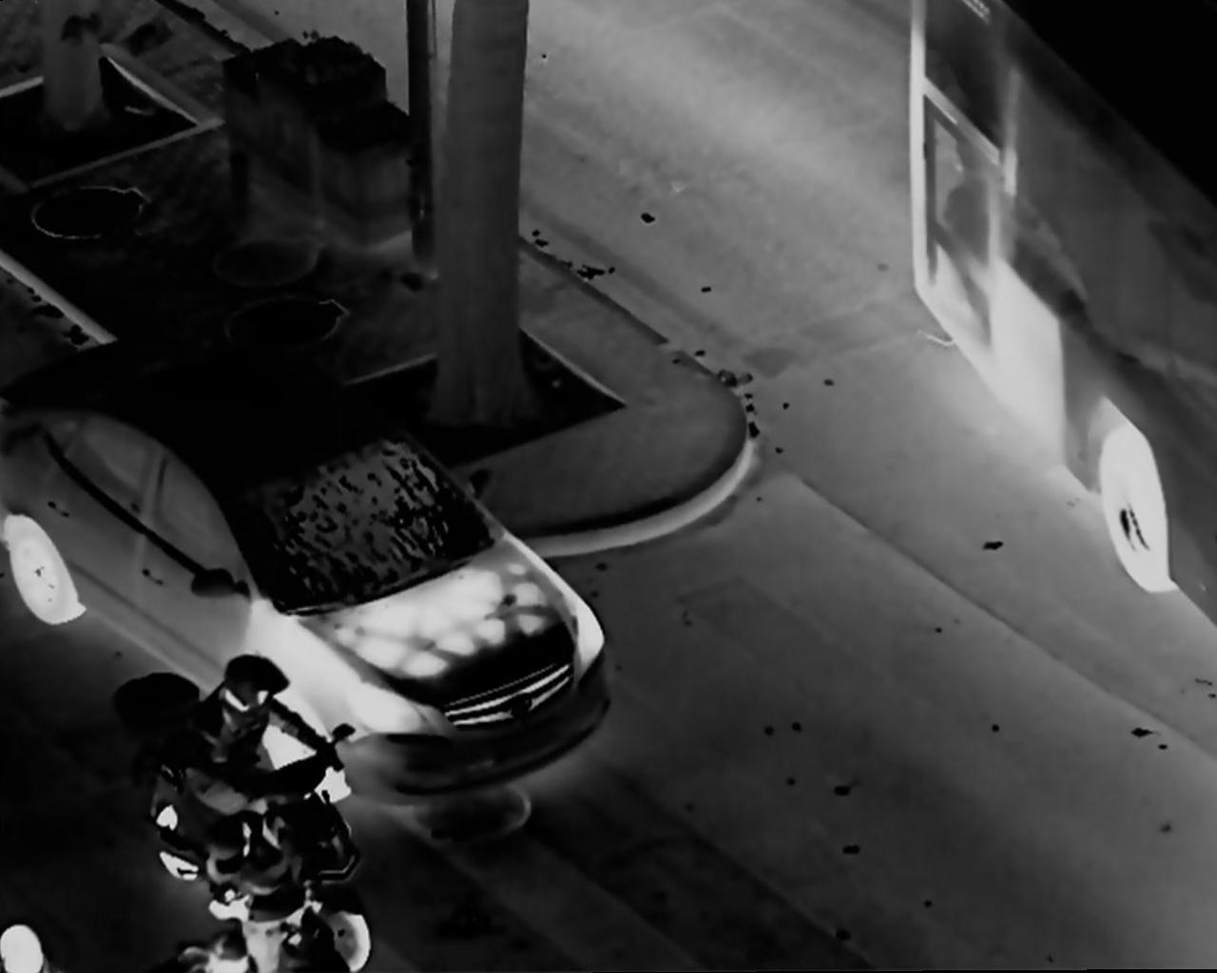person: (148, 644, 350, 942), (192, 808, 345, 973)
